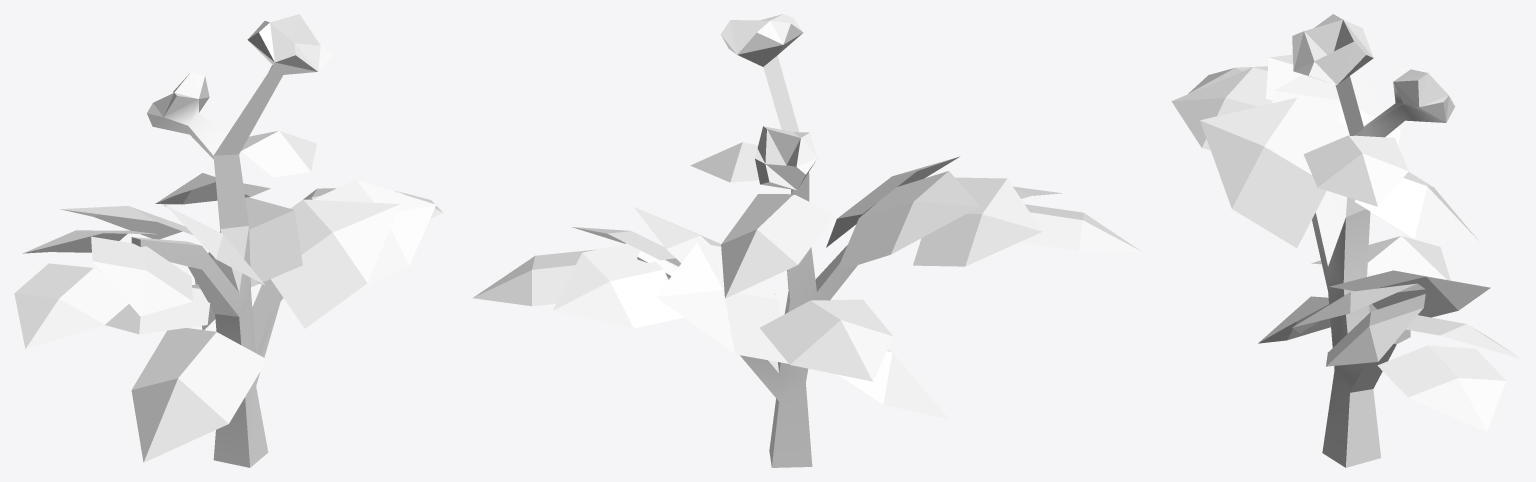
Rendered from SM_Prop_Plant_Potato_01_M.glb.
The picture shows the model from 3 angles, left to right: view 1: azimuth 30°, elevation 25°; view 2: azimuth 150°, elevation 25°; view 3: azimuth 270°, elevation 25°; orthographic projection. The views are drawn at different scales.
Parts seen in each view (by area): view 1: SM_Prop_Plant_Potato_01_M; view 2: SM_Prop_Plant_Potato_01_M; view 3: SM_Prop_Plant_Potato_01_M.
Boxes of the visible parts, x1,y1,x2,y2 form: SM_Prop_Plant_Potato_01_M: [14, 14, 443, 467]; SM_Prop_Plant_Potato_01_M: [472, 14, 1141, 467]; SM_Prop_Plant_Potato_01_M: [1171, 14, 1520, 467].
Bounding box in the file's own units: 0.924 × 0.7054 × 0.499.
Materials: 2 (1 with a texture image).
